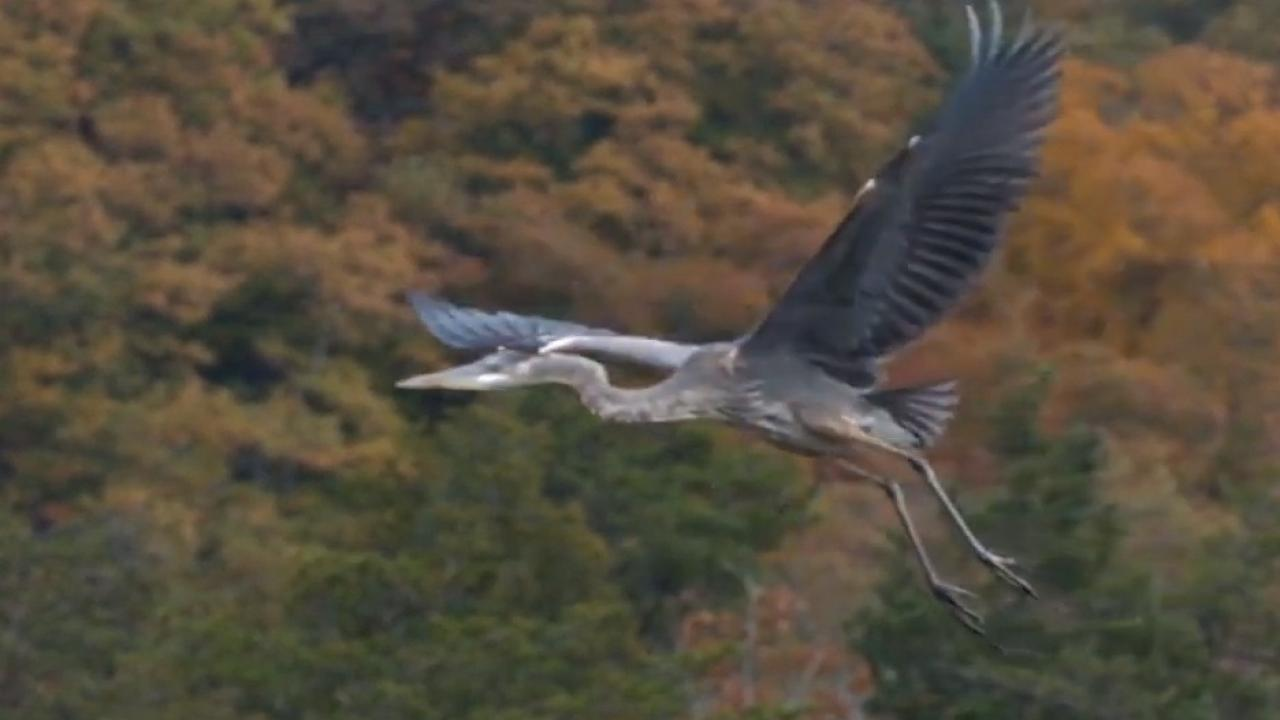Bird: (373, 0, 1073, 643)
